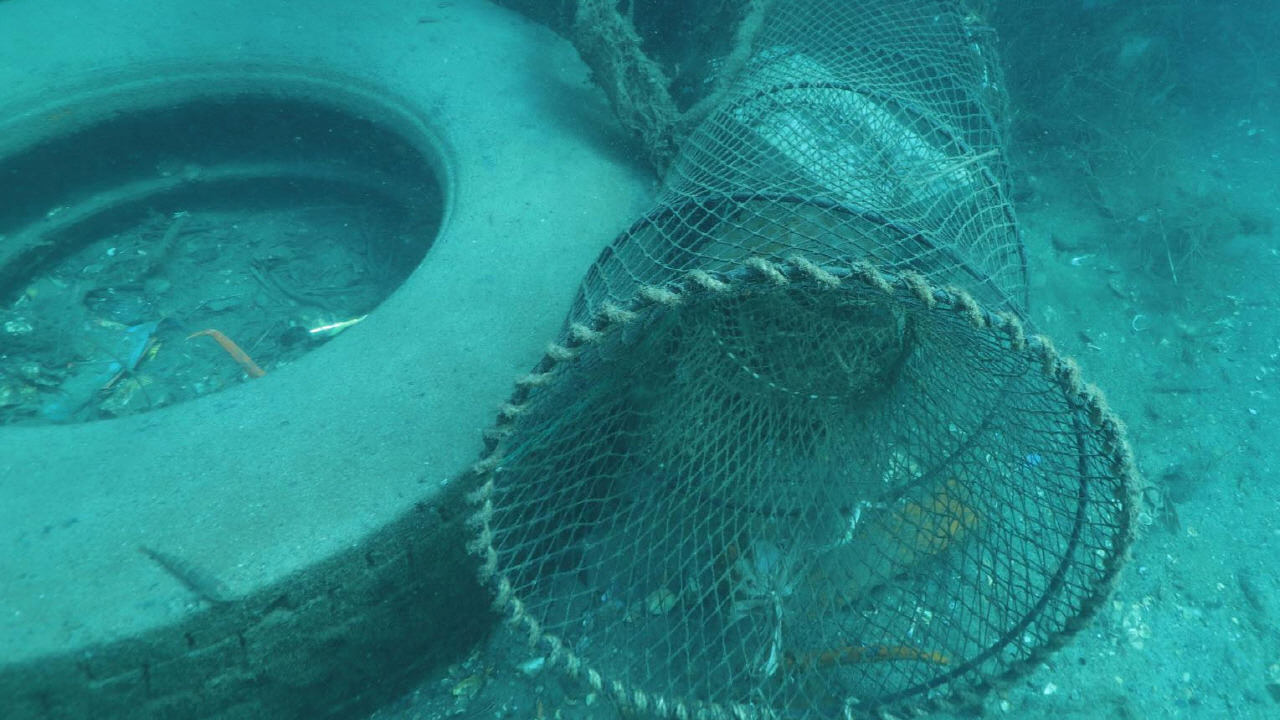spring fish trap: (464, 0, 1139, 720)
tire: (0, 0, 660, 720)
